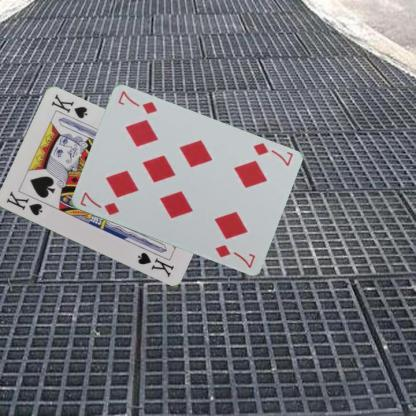7d: (250, 140, 294, 167), (77, 190, 120, 216)
Ks: (3, 188, 44, 218)
